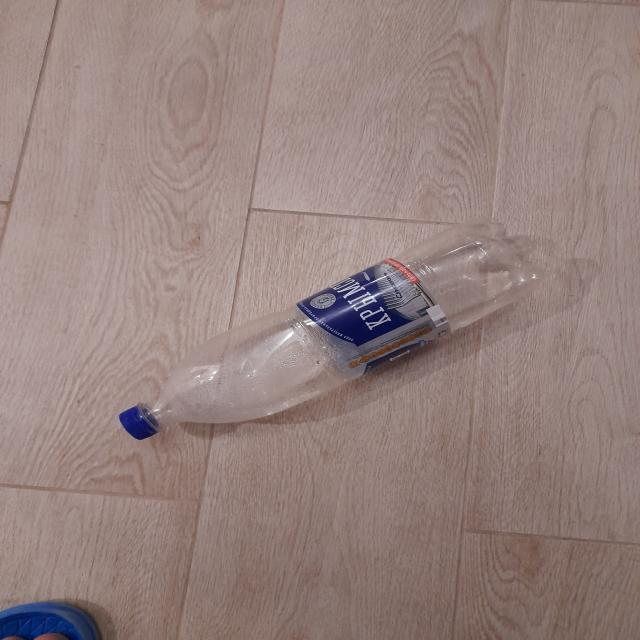empty: (118, 220, 538, 440)
